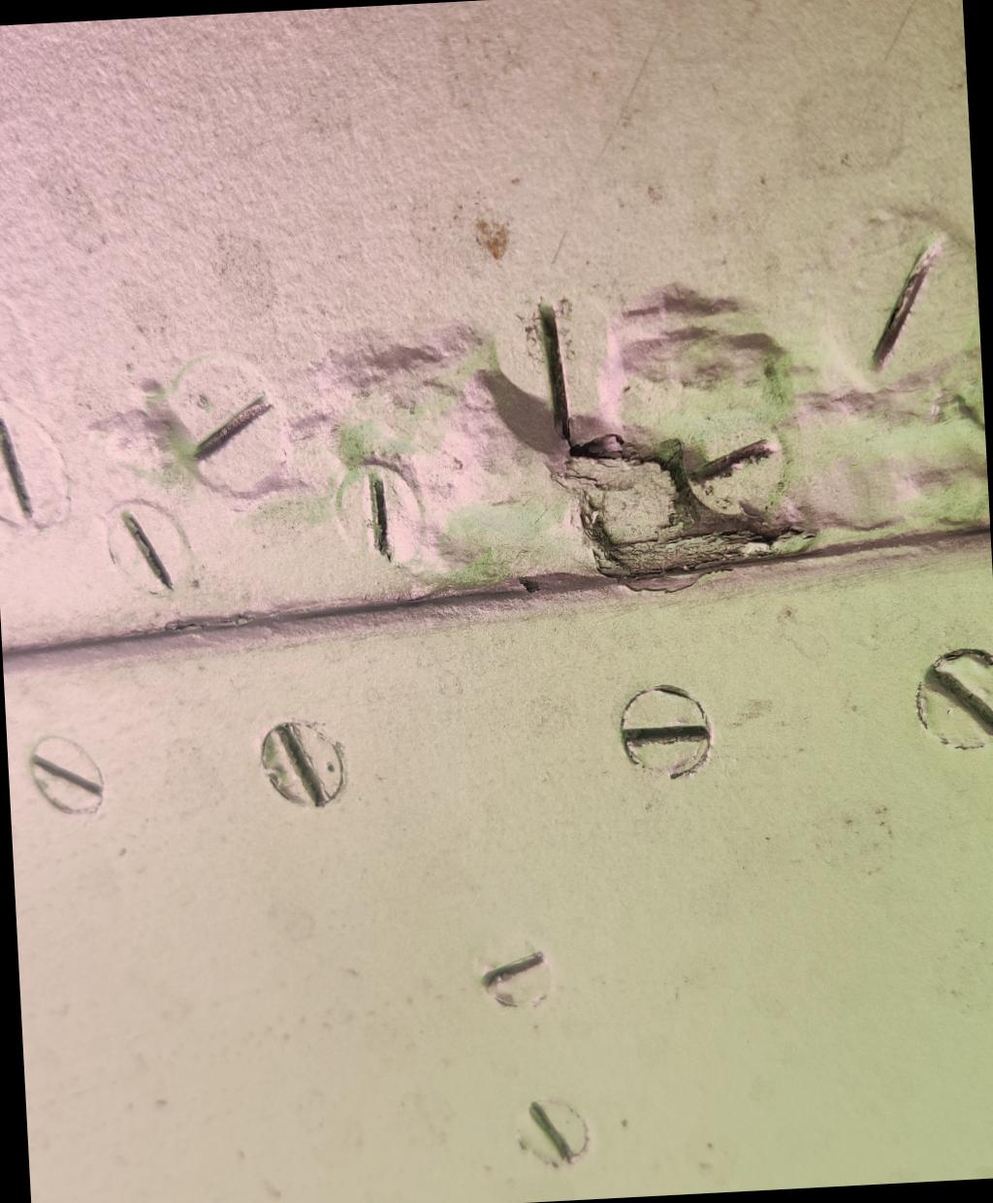corrosion: (555, 409, 772, 580)
